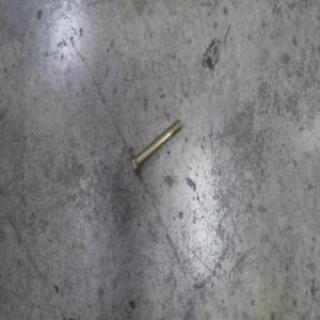Bolttrack_idkeyframe: (128, 116, 182, 177)
